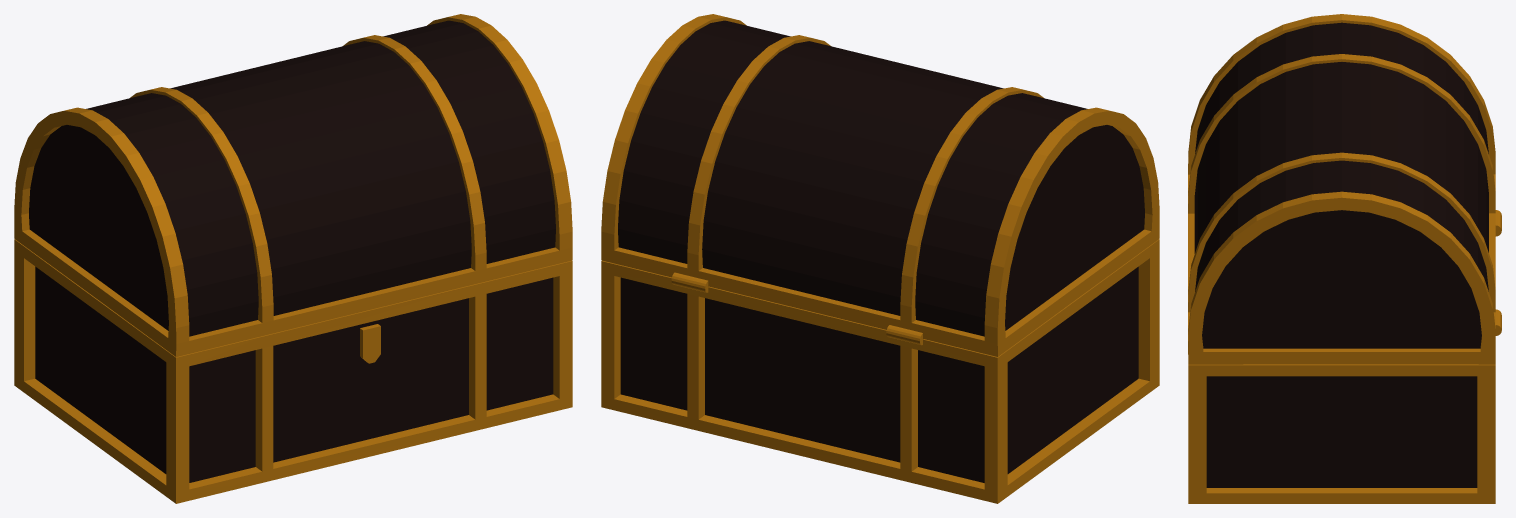
File: TreasureChest.obj
3 views of the same model, side by side, from view 1: azimuth 30°, elevation 25°; view 2: azimuth 150°, elevation 25°; view 3: azimuth 270°, elevation 25° (orthographic). The views are drawn at different scales.
Visible parts, largest first — view 1: TreasureChestLid, TreasureChest; view 2: TreasureChestLid, TreasureChest; view 3: TreasureChestLid, TreasureChest.
Part boxes in pixels (bbox=[...]): TreasureChestLid: bbox=[14, 14, 572, 356]; TreasureChest: bbox=[14, 239, 572, 503]; TreasureChestLid: bbox=[601, 14, 1159, 356]; TreasureChest: bbox=[601, 239, 1159, 503]; TreasureChestLid: bbox=[1188, 14, 1501, 364]; TreasureChest: bbox=[1188, 364, 1495, 503].
Bounding box in the file's own units: 0.707 × 0.5493 × 0.51.
